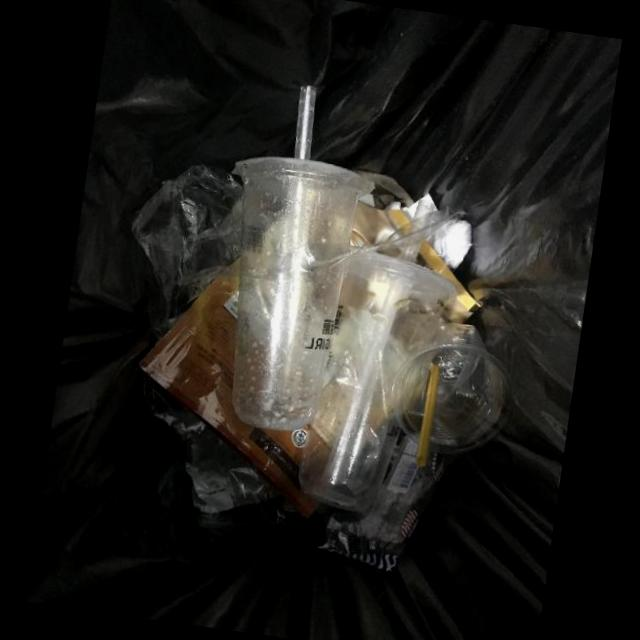bao_bi_thuc_pham: (139, 258, 318, 520), (317, 428, 445, 573)
giay: (425, 220, 473, 269)
hop_nhua: (298, 253, 458, 509), (232, 157, 375, 433)
ong_hut_nhua: (350, 199, 435, 412), (295, 86, 317, 160)
tui_ni_long: (131, 164, 246, 320)
